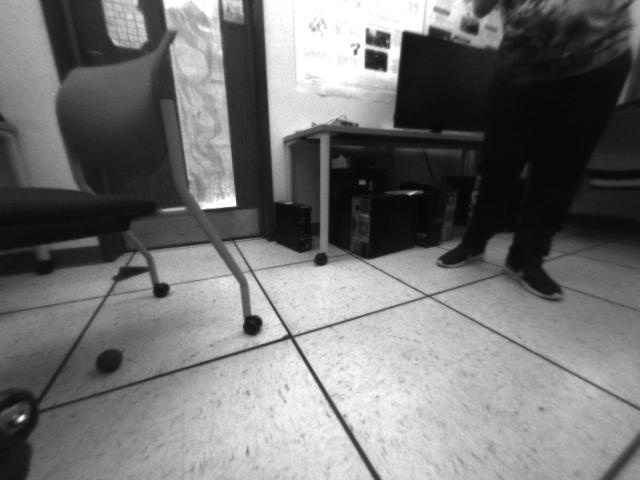dogtoy: (89, 341, 129, 376)
